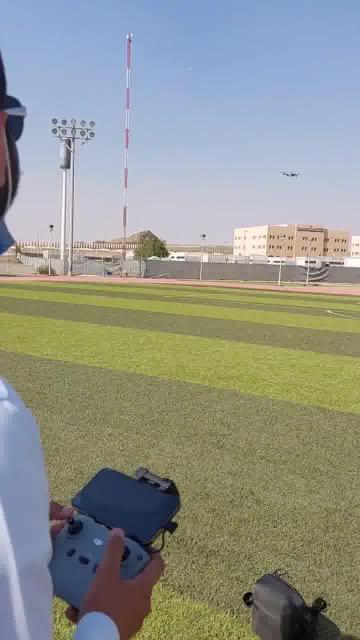drone: (276, 162, 306, 180)
